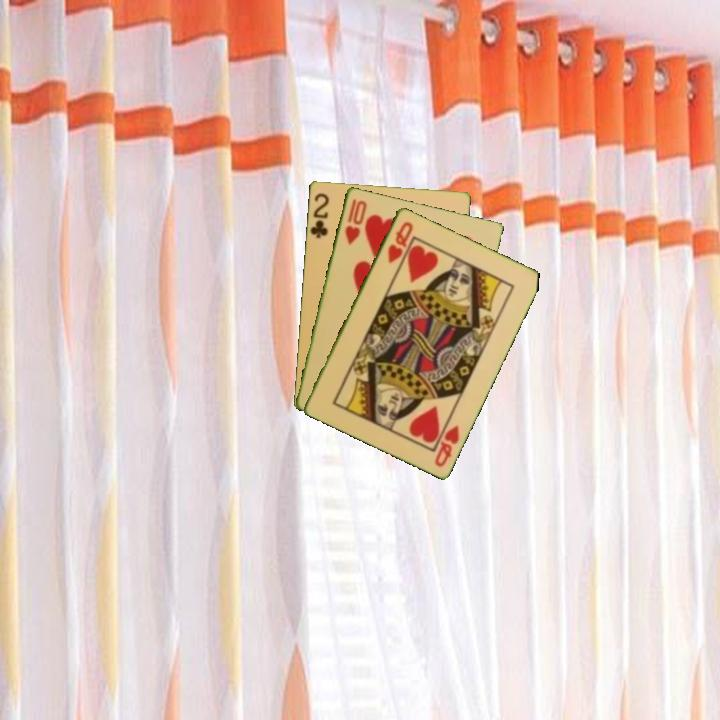10h: (341, 195, 369, 248)
2c: (307, 189, 332, 241)
Qh: (384, 218, 416, 266), (431, 421, 462, 470)
